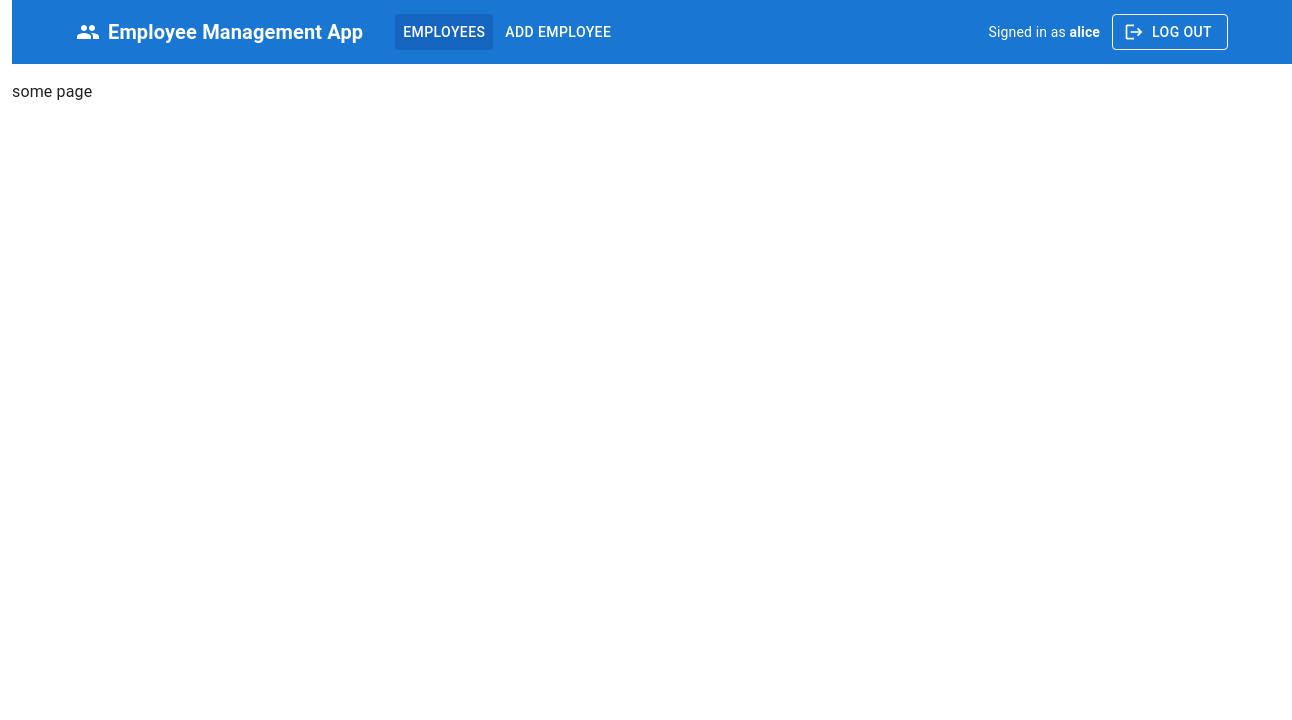
Test: NavBar when logged in › logs out: clears the session, goes to /login and says so
This screenshot has width=1292, height=720.
Step 1. Click the button "Log out" → (1170, 32), box x1=1112 y1=14 x2=1228 y2=50
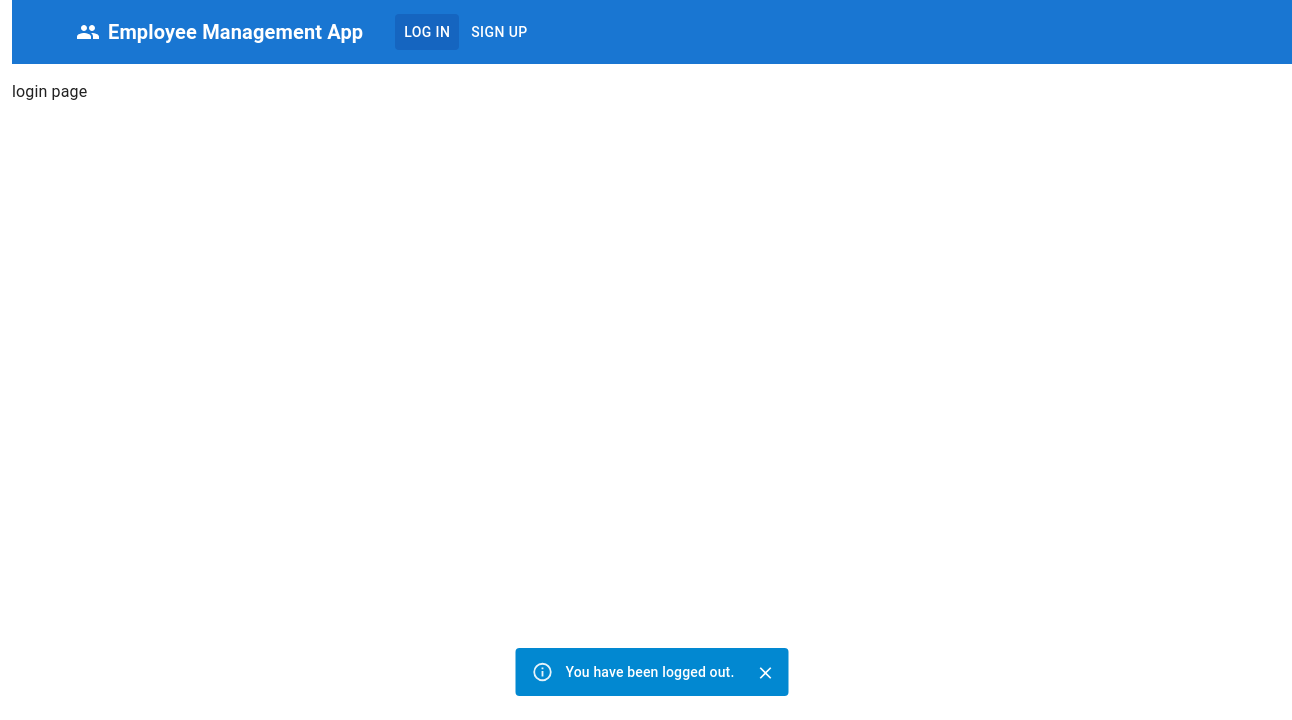
Expected: the text "login page" is shown, x1=12 y1=82 x2=87 y2=101
Expected: the link "Log in" is shown, x1=395 y1=14 x2=459 y2=50
Expected: the text "You have been logged out." is shown, x1=566 y1=664 x2=734 y2=680
